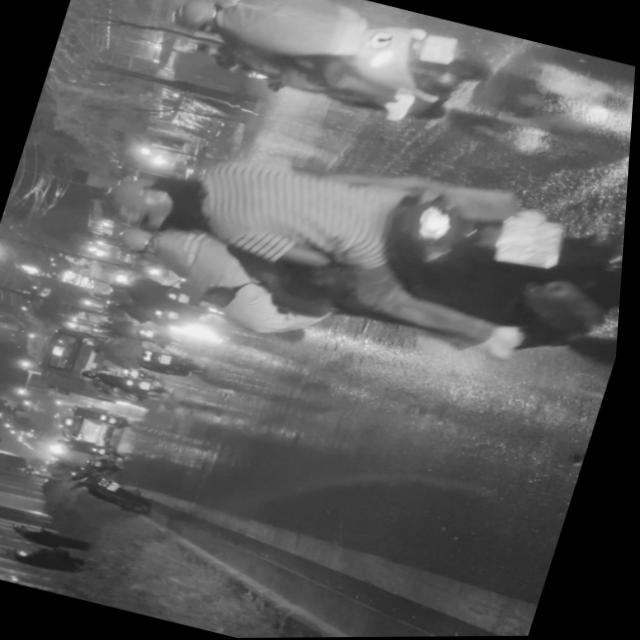helmet: (109, 159, 225, 242), (172, 0, 234, 35)
licenseplate: (69, 85, 635, 408), (148, 0, 504, 153)
nohelmet: (495, 206, 570, 272), (420, 31, 463, 68)
